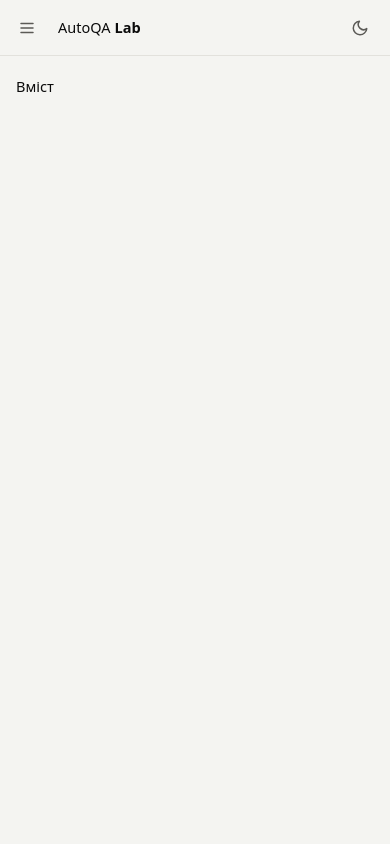
Test: Layout › показує навігацію, користувача та відкриває мобільне меню
Later steps or results of the test are not shown.
What coordinates should you click on to do the following:
click the button named "Відкрити меню"
I would click on:
 (30, 28)
Its box is left=12, top=10, right=48, bottom=46.
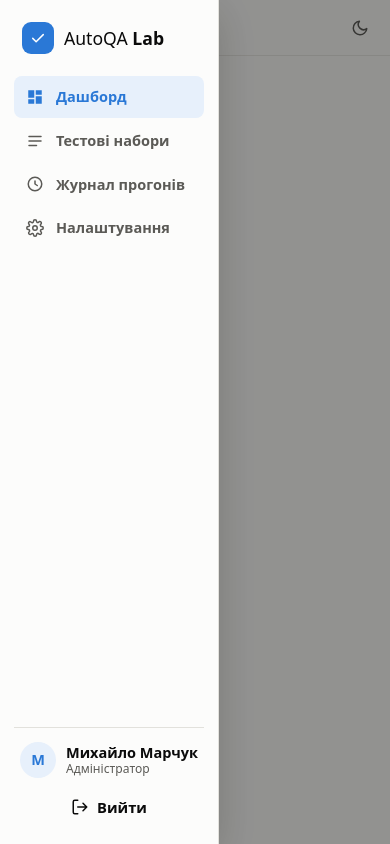
Expected: the element with class "shell" has class "shell--nav-open"
